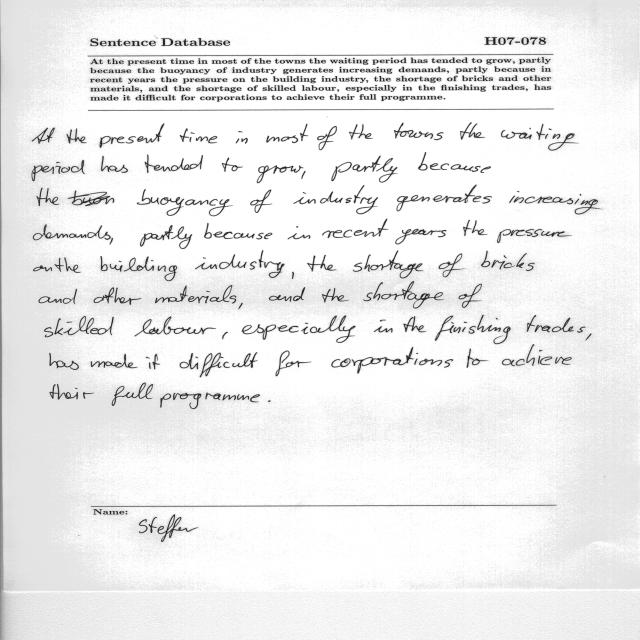word: (331, 347, 453, 374), (242, 315, 356, 343), (137, 189, 233, 216), (396, 185, 492, 211), (195, 250, 284, 278), (293, 185, 378, 214), (364, 281, 444, 309), (435, 315, 511, 344), (509, 191, 601, 214), (501, 124, 579, 150), (354, 251, 424, 279), (180, 353, 258, 378), (160, 392, 260, 409), (100, 123, 165, 148), (135, 317, 216, 337), (155, 285, 237, 304), (502, 344, 572, 366), (418, 152, 491, 173), (47, 316, 114, 337), (124, 256, 177, 281), (322, 219, 388, 238), (140, 225, 192, 249), (352, 156, 398, 183), (144, 154, 203, 173), (204, 223, 272, 239), (481, 251, 535, 271), (527, 315, 586, 333), (497, 229, 572, 243), (47, 225, 111, 240), (112, 383, 153, 406), (276, 351, 312, 376), (257, 166, 305, 184), (94, 287, 142, 305), (394, 123, 443, 140), (267, 124, 309, 143), (396, 229, 447, 244), (50, 384, 94, 400), (68, 191, 114, 206), (439, 254, 466, 278), (91, 354, 137, 368), (180, 129, 217, 144), (459, 284, 482, 308), (47, 257, 81, 273), (269, 287, 305, 302), (47, 160, 85, 174), (251, 189, 273, 213), (50, 353, 79, 370), (317, 126, 337, 150), (308, 255, 337, 271), (101, 156, 128, 173), (47, 289, 77, 304), (460, 123, 485, 140), (463, 220, 488, 236), (331, 162, 352, 181), (467, 349, 488, 368), (322, 288, 349, 302), (404, 316, 427, 332), (349, 125, 373, 140), (101, 256, 123, 272), (67, 129, 87, 144), (222, 158, 243, 172), (288, 227, 310, 240), (374, 320, 392, 333), (146, 354, 160, 369), (47, 188, 59, 205), (236, 131, 248, 144), (47, 128, 55, 143), (222, 332, 228, 339), (586, 334, 592, 341), (239, 303, 243, 309), (110, 238, 113, 245), (292, 272, 294, 279), (268, 400, 271, 402)
